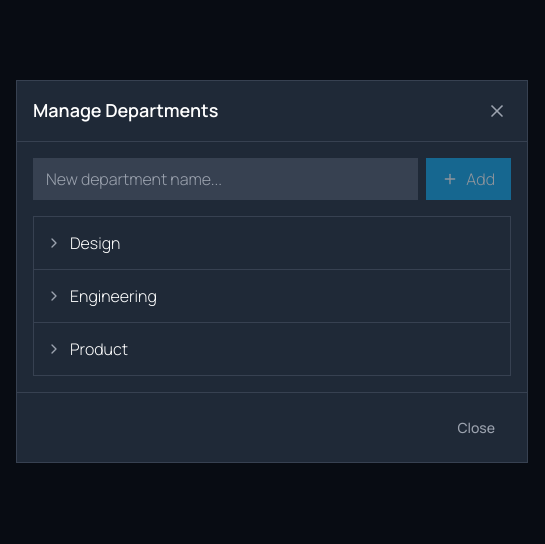
Test case: ManageDepartmentsModal › user list functionality › collapses user list when department clicked again
// Click to expand
What coordinates should you click on to do the following:
click the text "Engineering"
I would click on:
 (113, 296)
Its box is [70, 284, 157, 308].
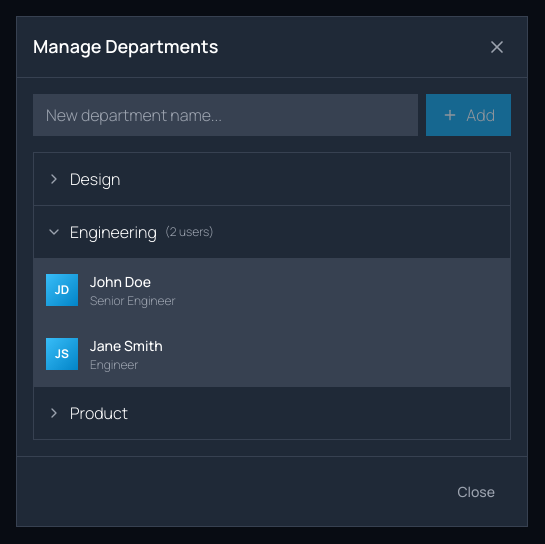
Expected: the text "Senior Engineer" is shown, [90, 292, 176, 308]
// Click again to collapse
What coordinates should you click on to do the following:
click the text "Engineering"
I would click on:
 (113, 232)
Its box is [70, 220, 157, 244].
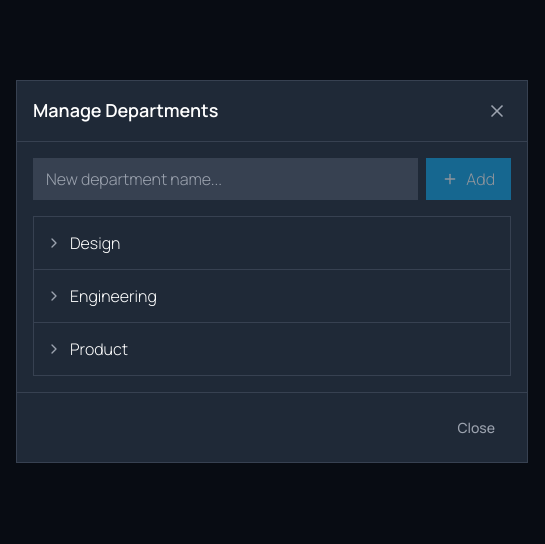
Expected: the text "Senior Engineer" is gone
